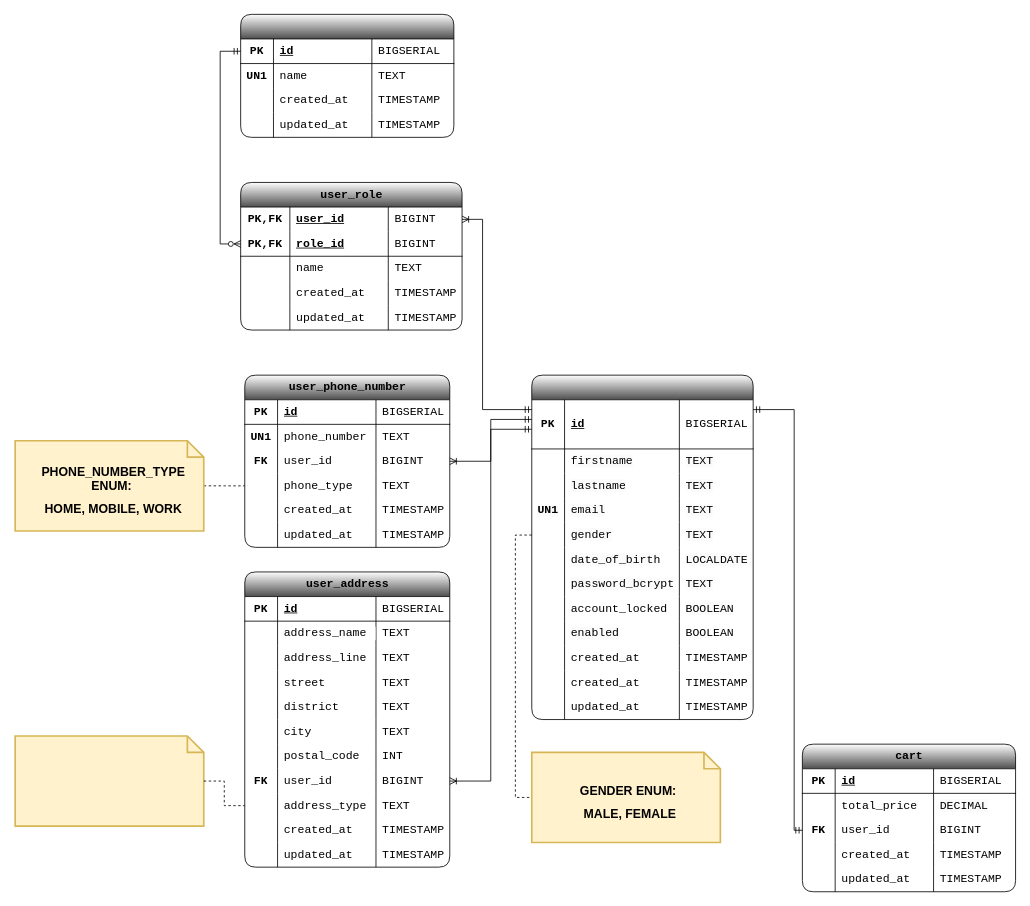
This 1030x906 diagram has some shape labels left out. Each missing label, with the box of its shape:
_user: (531, 374, 753, 720)
ADDRESS_TYPE ENUM: HOME, WORK, OTHER: (14, 735, 204, 827)
role: (240, 14, 454, 137)
